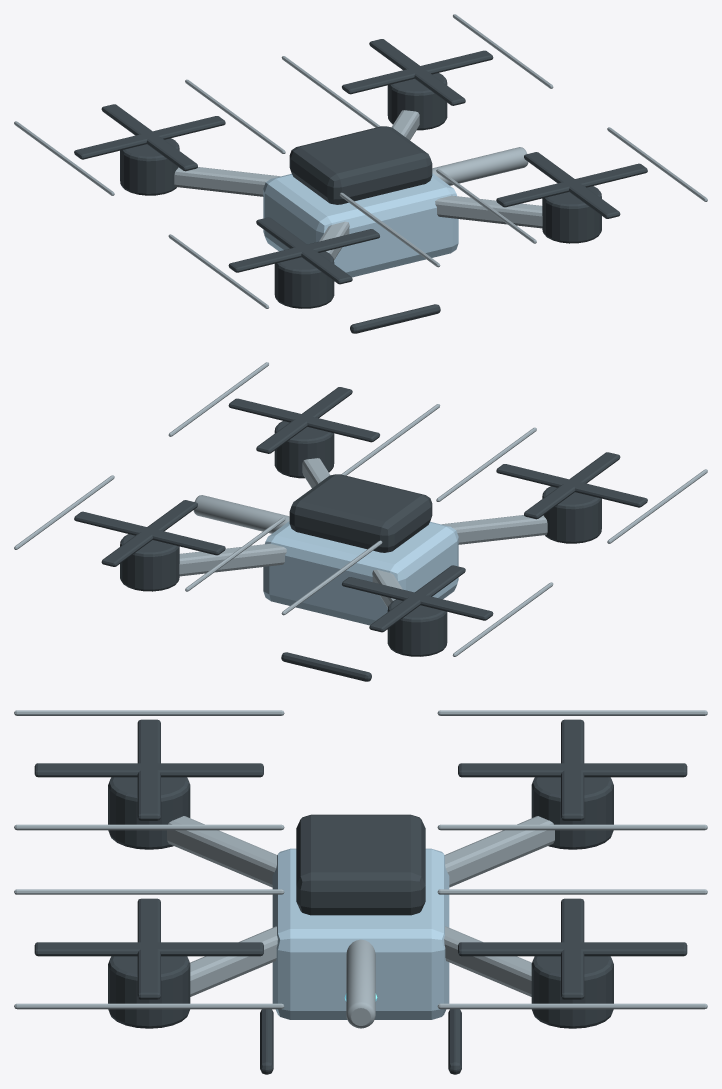
Rendered from robot-aerial.glb.
3 renders of one model, top to bottom at view 1: azimuth 30°, elevation 25°; view 2: azimuth 150°, elevation 25°; view 3: azimuth 270°, elevation 25°, orthographic. The views are drawn at different scales.
Visible parts, largest first — view 1: Chassis_GraphiteArmor, FlightBody, Chassis_BrushedTitanium, Rotor_1_GraphiteArmor, Rotor_0_GraphiteArmor, Rotor_3_GraphiteArmor, Rotor_2_GraphiteArmor, Barrel; view 2: Chassis_GraphiteArmor, FlightBody, Chassis_BrushedTitanium, Rotor_0_GraphiteArmor, Rotor_1_GraphiteArmor, Rotor_2_GraphiteArmor, Rotor_3_GraphiteArmor, Barrel; view 3: Chassis_GraphiteArmor, Chassis_BrushedTitanium, FlightBody, Rotor_2_GraphiteArmor, Rotor_3_GraphiteArmor, Rotor_0_GraphiteArmor, Rotor_1_GraphiteArmor, Barrel.
Part boxes in pixels (bbox=[...]): Chassis_GraphiteArmor: bbox=[120, 73, 601, 333]; FlightBody: bbox=[263, 173, 458, 277]; Chassis_BrushedTitanium: bbox=[14, 14, 707, 308]; Rotor_1_GraphiteArmor: bbox=[74, 104, 225, 171]; Rotor_0_GraphiteArmor: bbox=[228, 217, 379, 284]; Rotor_3_GraphiteArmor: bbox=[342, 39, 493, 105]; Rotor_2_GraphiteArmor: bbox=[496, 152, 647, 218]; Barrel: bbox=[432, 147, 528, 185]; Chassis_GraphiteArmor: bbox=[120, 421, 601, 681]; FlightBody: bbox=[263, 521, 458, 625]; Chassis_BrushedTitanium: bbox=[14, 362, 707, 656]; Rotor_0_GraphiteArmor: bbox=[496, 452, 647, 519]; Rotor_1_GraphiteArmor: bbox=[342, 565, 493, 632]; Rotor_2_GraphiteArmor: bbox=[228, 387, 379, 453]; Rotor_3_GraphiteArmor: bbox=[74, 500, 225, 566]; Barrel: bbox=[193, 495, 289, 533]; Chassis_GraphiteArmor: bbox=[108, 777, 613, 1074]; Chassis_BrushedTitanium: bbox=[14, 710, 707, 1009]; FlightBody: bbox=[272, 848, 449, 1019]; Rotor_2_GraphiteArmor: bbox=[34, 898, 263, 999]; Rotor_3_GraphiteArmor: bbox=[458, 898, 687, 999]; Rotor_0_GraphiteArmor: bbox=[34, 719, 263, 820]; Rotor_1_GraphiteArmor: bbox=[458, 719, 687, 820]; Barrel: bbox=[346, 939, 375, 1028].
Bounding box in the file's own units: 1.19 × 0.3815 × 1.18.
